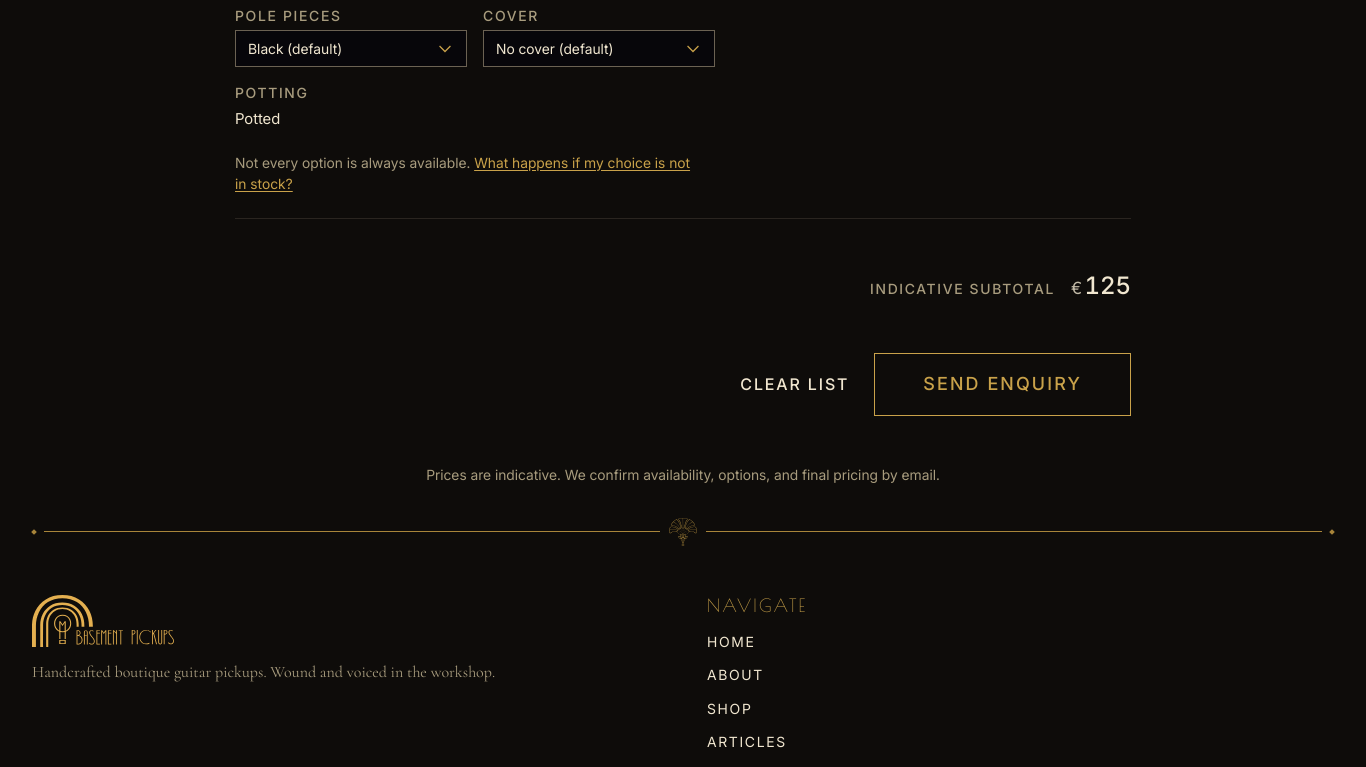
Scenario: CartPage › clears the list
(page scrolled)
Step 1. Click the button with test id "cart-clear" → x=795, y=384, box [739, 359, 850, 410]
(page scrolled)
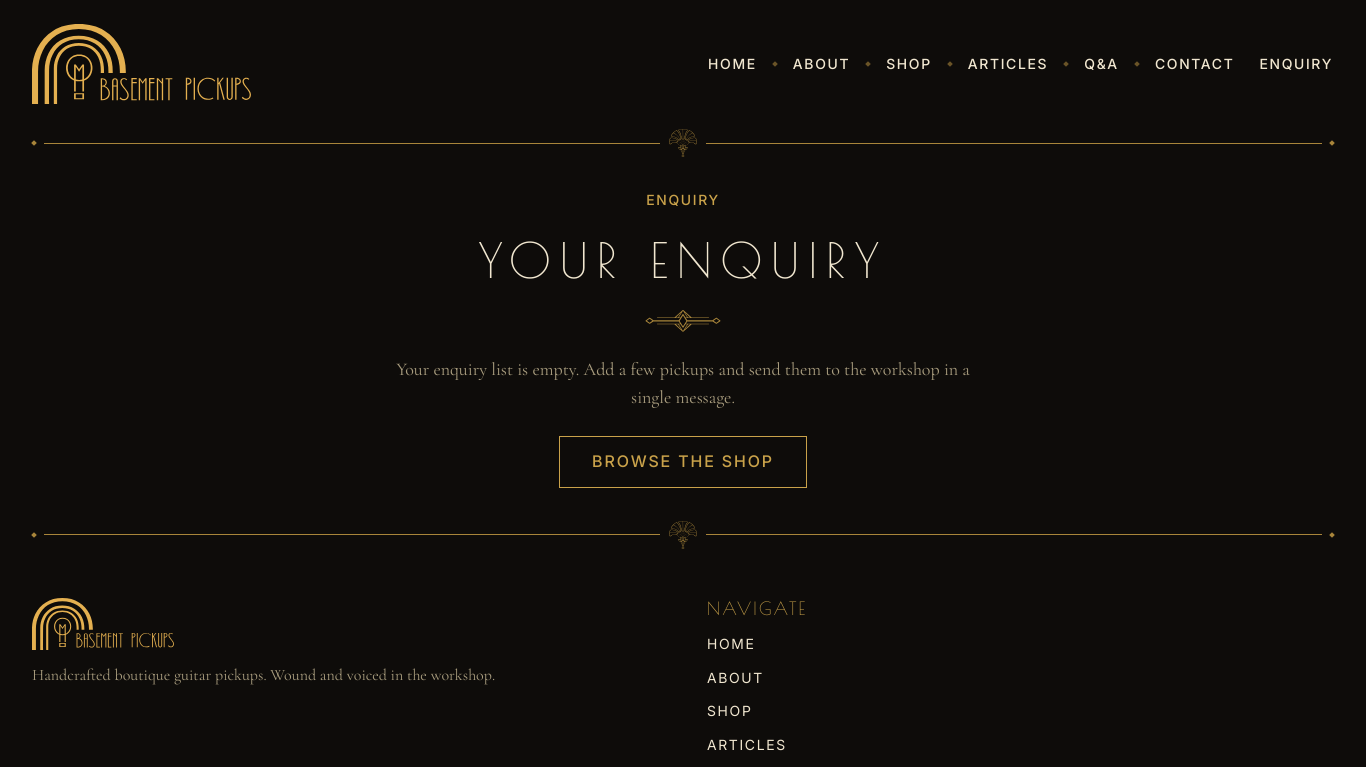
Now the element with test id "cart-empty" is shown, box [396, 191, 970, 488]
